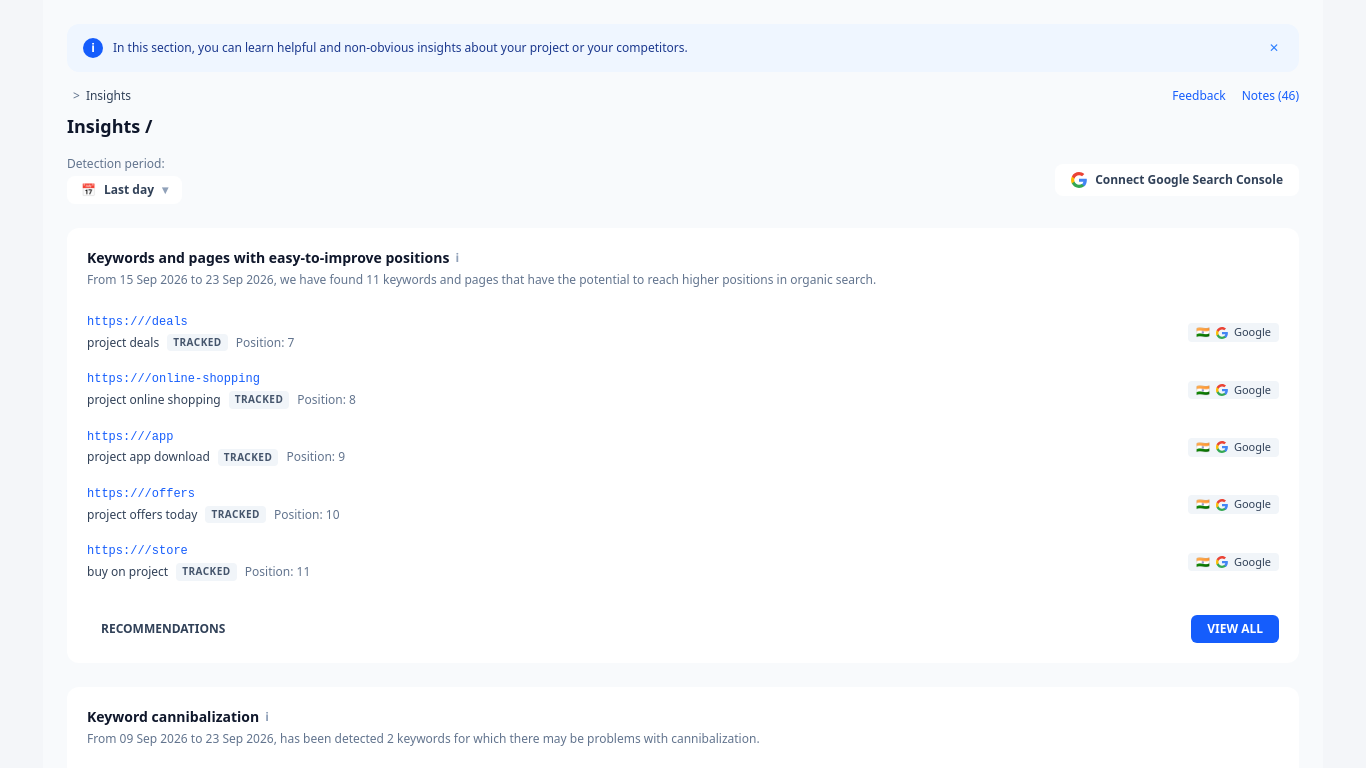
it: ProjectInsightsView Component › allows selecting a different detection period from dropdown
This screenshot has width=1366, height=768.
Click the button with aria-label "Detection period: Last day" at point(124, 190), box [67,176,182,204]
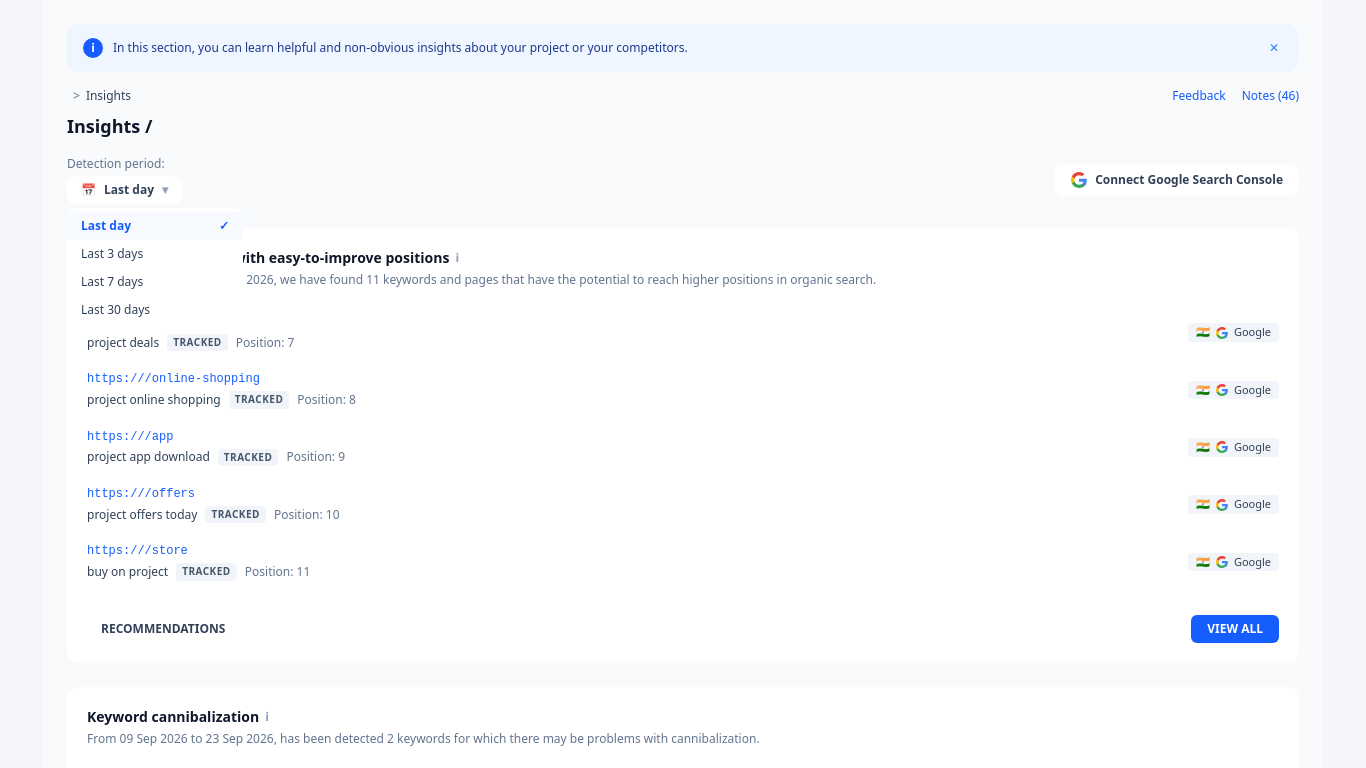
Click the option "Last 7 days" at point(155, 282), box [67,268,243,296]
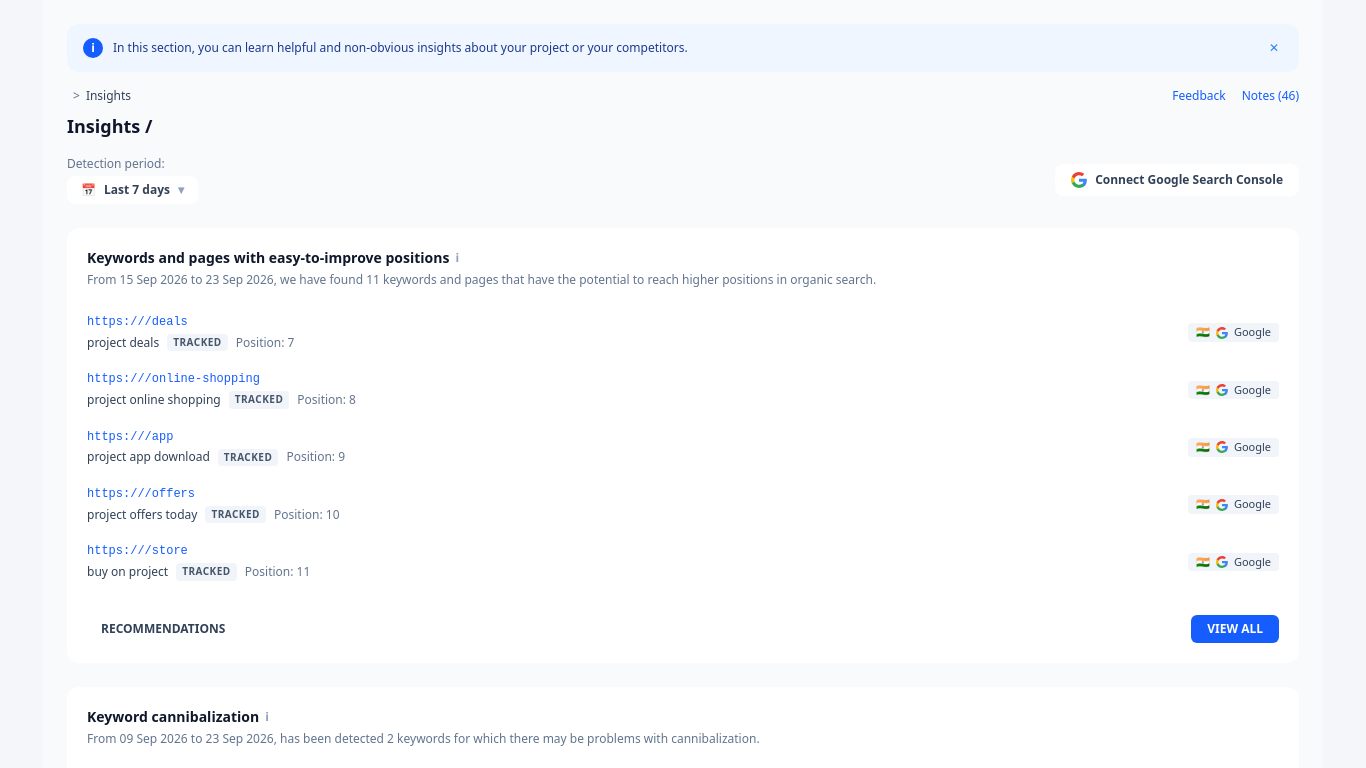
Now the button with aria-label "Detection period: Last 7 days" is shown, box [67,176,198,204]
